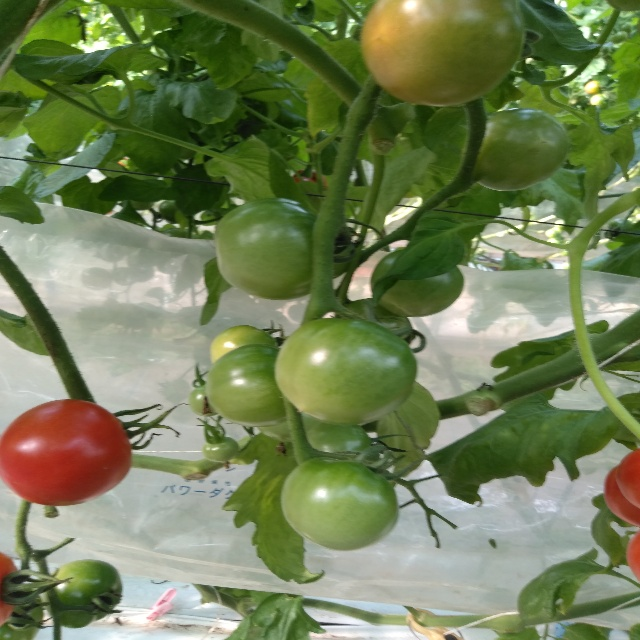l_fully_ripened: (0, 398, 133, 507), (602, 465, 639, 527), (616, 448, 640, 509)
l_green: (273, 318, 417, 426), (279, 456, 400, 552), (215, 197, 317, 301), (462, 107, 568, 192), (206, 344, 303, 427), (370, 249, 463, 318), (45, 559, 123, 629), (335, 297, 412, 345), (307, 421, 379, 471), (0, 581, 45, 640), (209, 325, 277, 364), (258, 412, 320, 444), (189, 384, 218, 416), (202, 436, 238, 461)
l_half_ripened: (360, 0, 525, 108)
